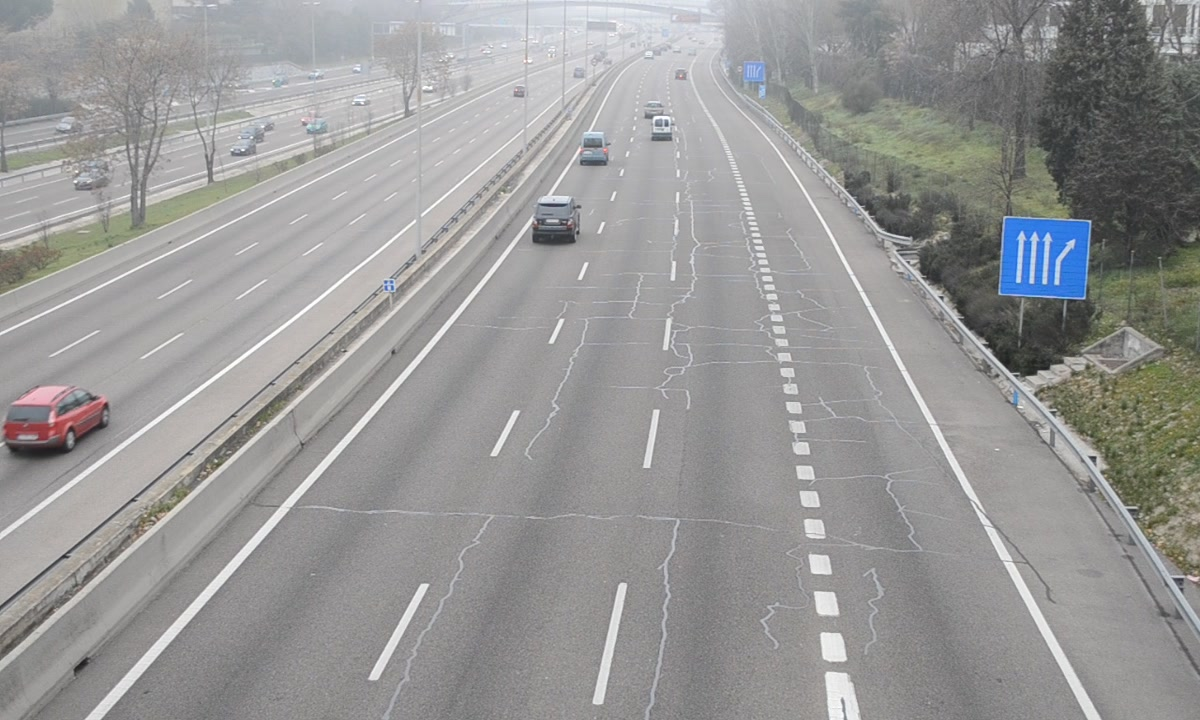car: (534, 196, 582, 240)
van: (579, 131, 610, 167)
